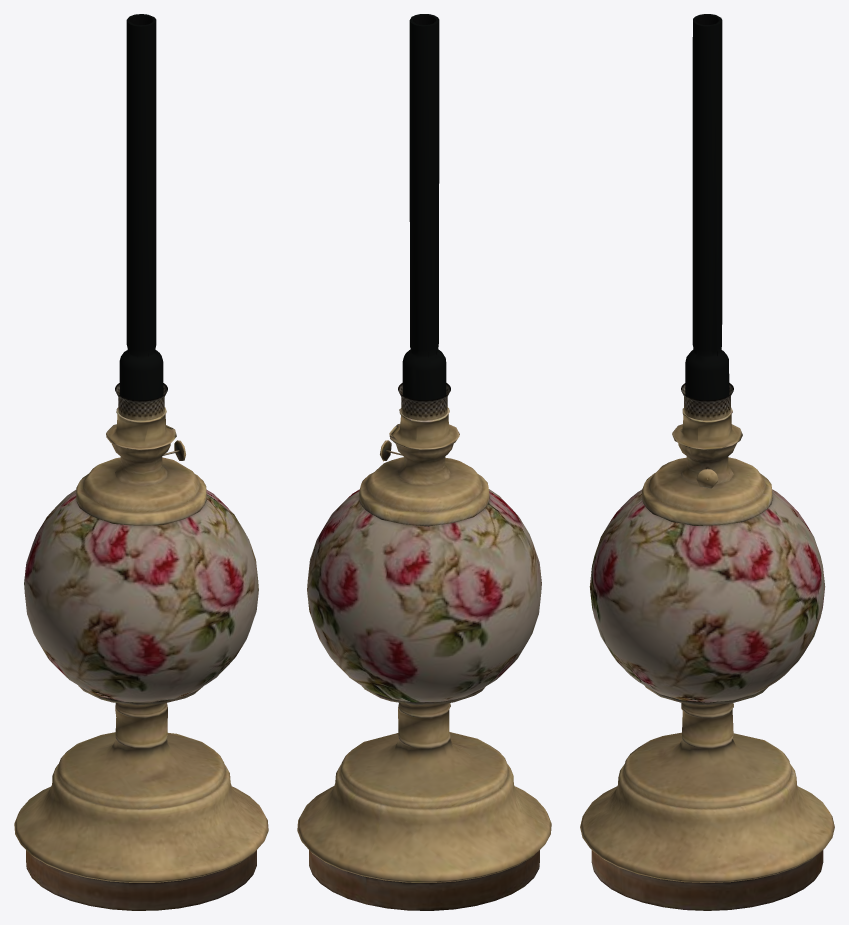
Rendered from vintage_oil_lamp.glb.
The picture shows the model from 3 angles, left to right: view 1: azimuth 30°, elevation 25°; view 2: azimuth 150°, elevation 25°; view 3: azimuth 270°, elevation 25°; orthographic projection.
Visible parts, largest first — view 1: vintage_oil_lamp, vintage_oil_lamp_glass; view 2: vintage_oil_lamp, vintage_oil_lamp_glass; view 3: vintage_oil_lamp, vintage_oil_lamp_glass.
Boxes of the visible parts, <box> form: vintage_oil_lamp: <box>14,407,268,910</box>; vintage_oil_lamp_glass: <box>115,14,167,420</box>; vintage_oil_lamp: <box>297,407,551,910</box>; vintage_oil_lamp_glass: <box>398,14,450,420</box>; vintage_oil_lamp: <box>580,407,834,910</box>; vintage_oil_lamp_glass: <box>681,14,733,420</box>.
Bounding box in the file's own units: 0.22 × 0.8016 × 0.22.
Materials: 3 (3 with a texture image).
